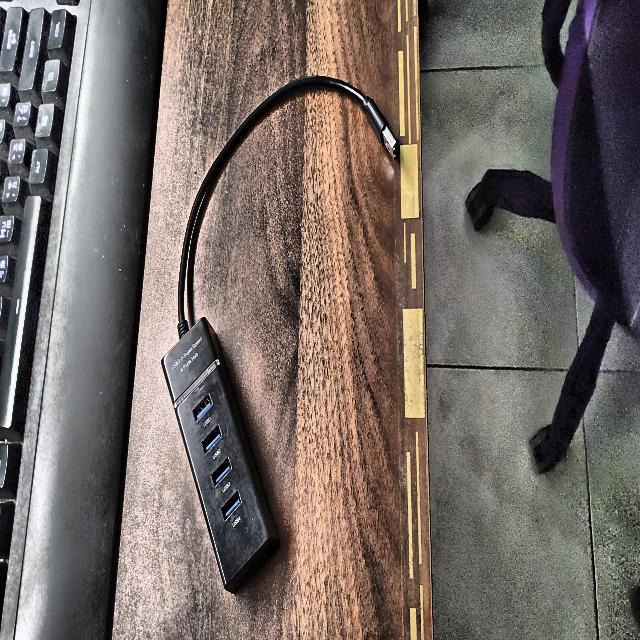HUB: (162, 76, 399, 591)
